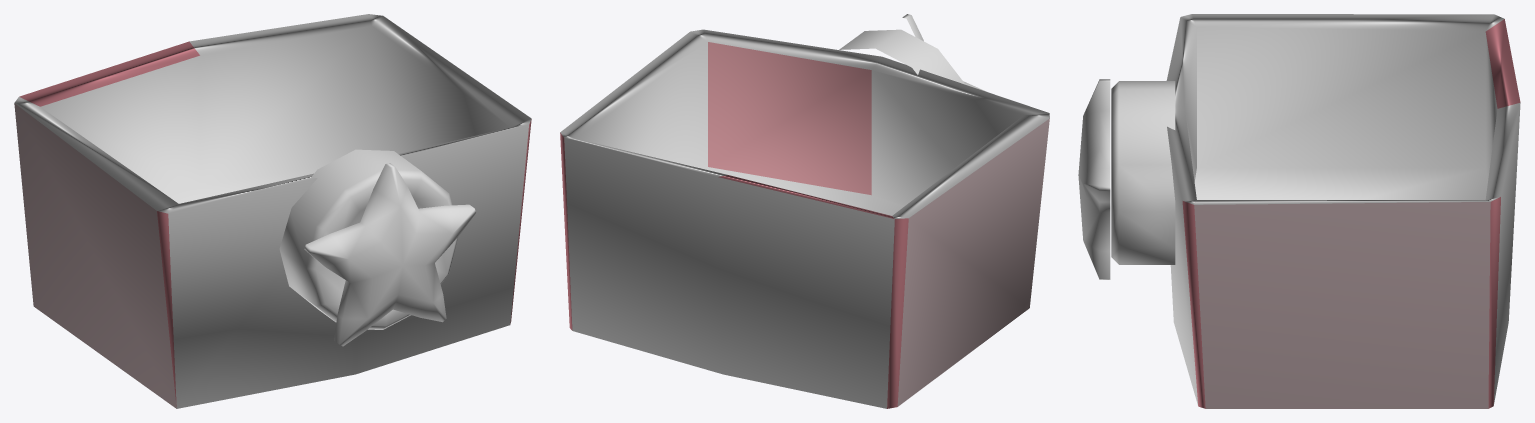
Rendered from trunkProgressionRockHopper.glb.
The picture shows the model from 3 angles, left to right: view 1: azimuth 30°, elevation 25°; view 2: azimuth 150°, elevation 25°; view 3: azimuth 270°, elevation 25°; orthographic projection. The views are drawn at different scales.
Visible parts, largest first — view 1: trunkProgressionRockHopper; view 2: trunkProgressionRockHopper; view 3: trunkProgressionRockHopper.
Part boxes in pixels (bbox=[...]): trunkProgressionRockHopper: bbox=[14, 14, 531, 408]; trunkProgressionRockHopper: bbox=[560, 14, 1049, 408]; trunkProgressionRockHopper: bbox=[1078, 14, 1520, 408].
Size of the model in its own units: 0.5827 by 0.3451 by 0.5704.
